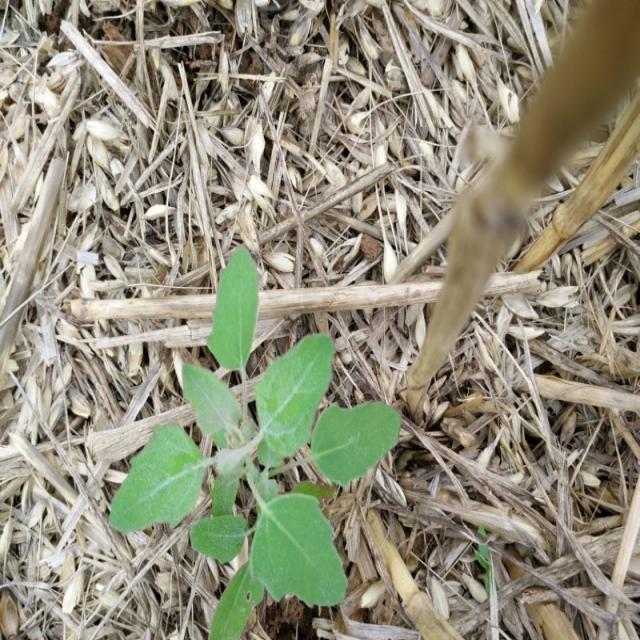ca: (113, 248, 400, 610)
